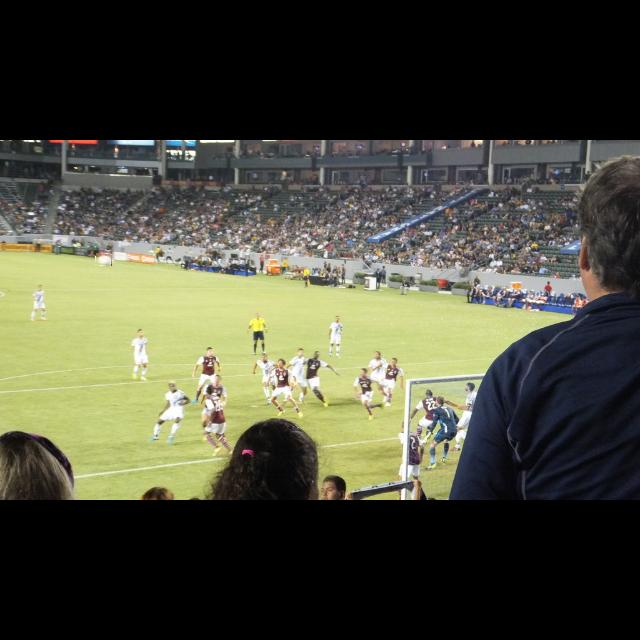Football: (96, 254, 112, 266)
